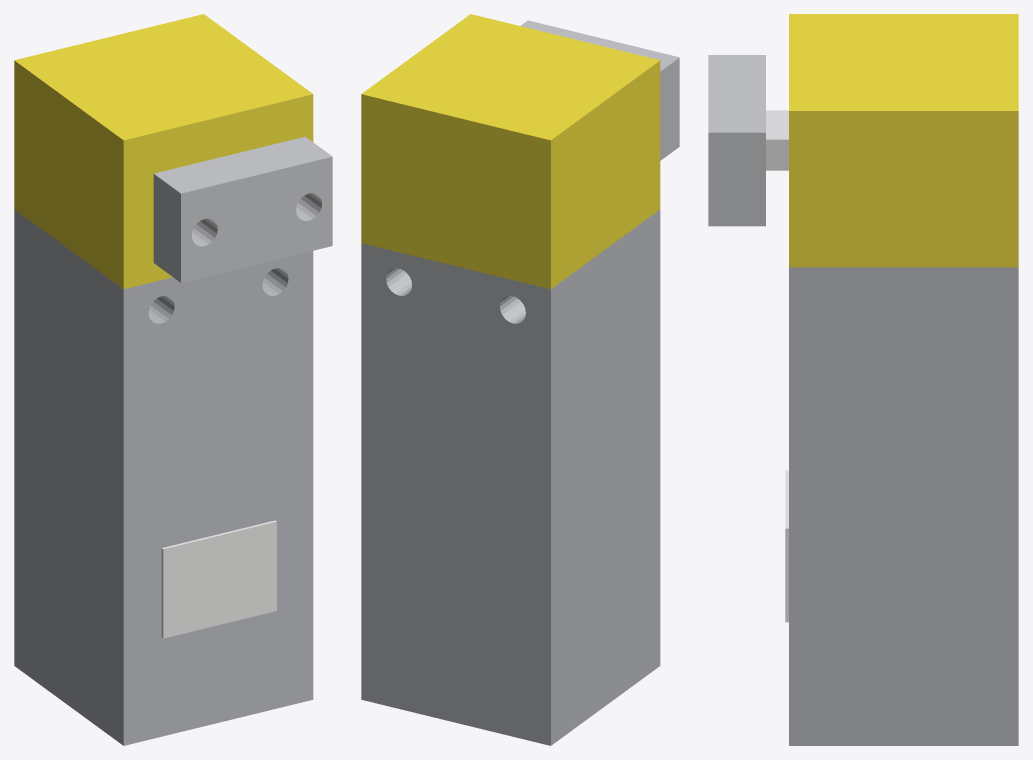
Rendered from guard-interlock.glb.
3 views of the same model, side by side, from view 1: azimuth 30°, elevation 25°; view 2: azimuth 150°, elevation 25°; view 3: azimuth 270°, elevation 25° (orthographic). The views are drawn at different scales.
Parts seen in each view (by area): view 1: body, actuator; view 2: body, actuator; view 3: body, actuator.
Part boxes in pixels (bbox=[...]): body: bbox=[14, 14, 313, 745]; actuator: bbox=[153, 136, 332, 282]; body: bbox=[361, 14, 660, 745]; actuator: bbox=[521, 20, 679, 160]; body: bbox=[785, 14, 1018, 745]; actuator: bbox=[708, 55, 788, 226].
Size of what is drawn, in the model's own units: 0.04 by 0.122 by 0.054.
